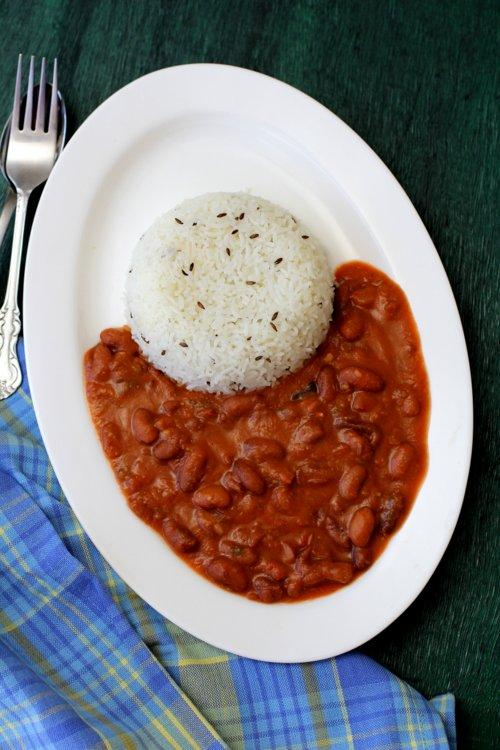rajma: (82, 398, 462, 590)
rice: (128, 192, 330, 386)
